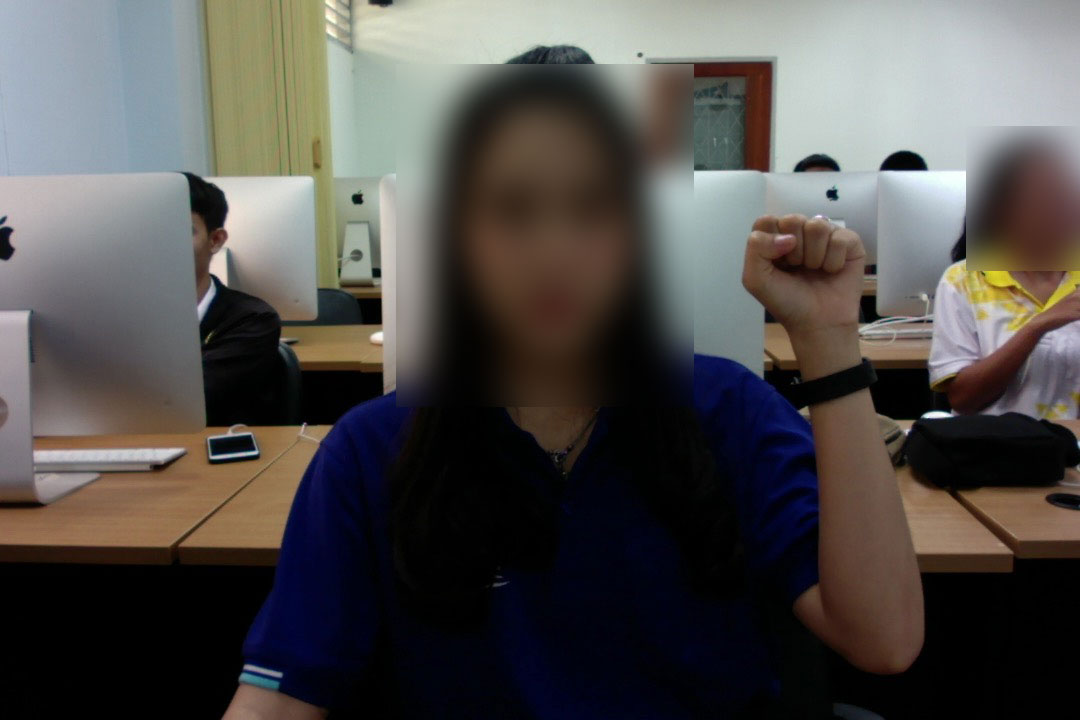sor: (735, 205, 872, 354)
